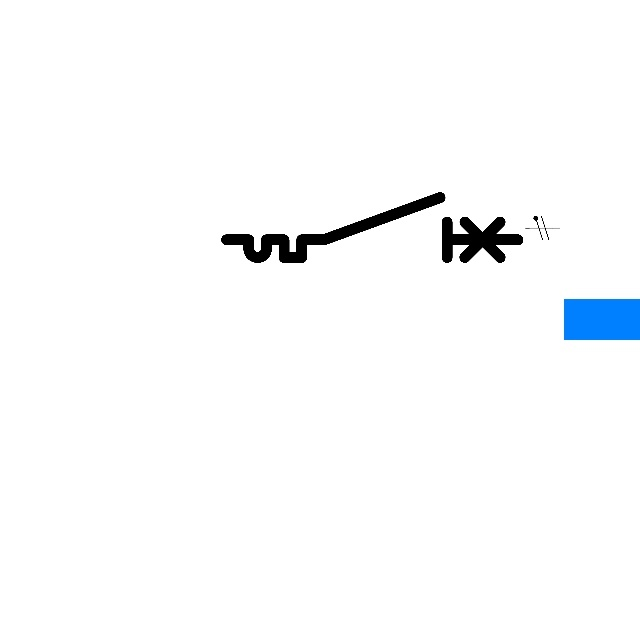interruptor_termomagnetico: (219, 190, 525, 265)
